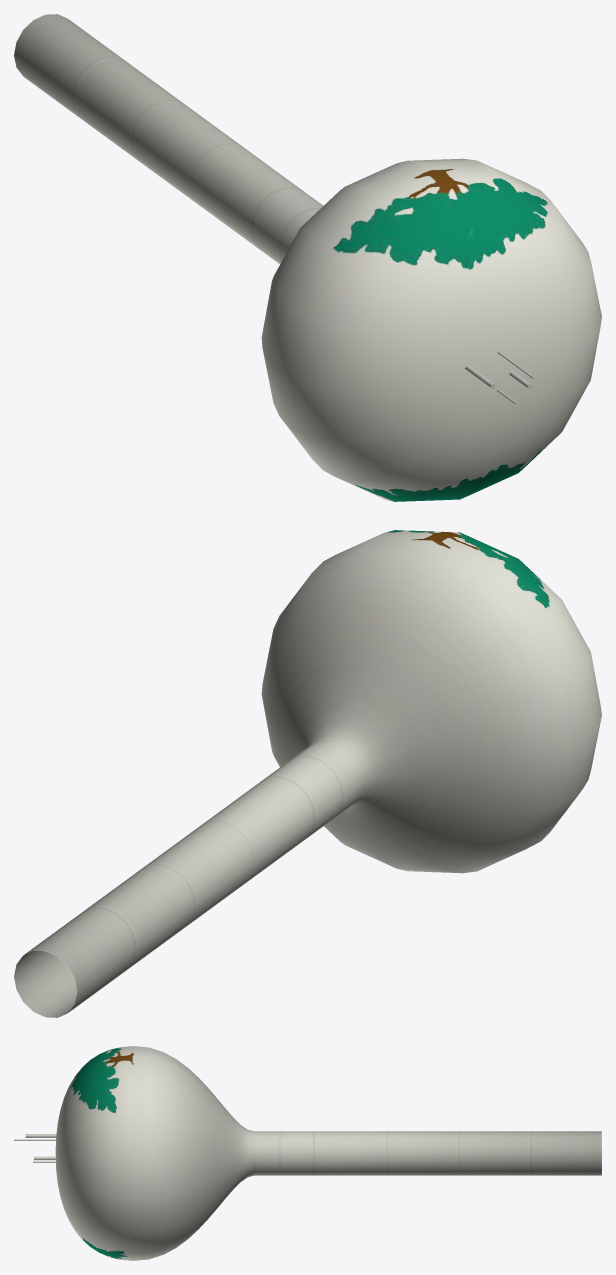
The model's file is Water_Tower.obj.
3 renders of one model, top to bottom at view 1: azimuth 30°, elevation 25°; view 2: azimuth 150°, elevation 25°; view 3: azimuth 270°, elevation 25°, orthographic. The views are drawn at different scales.
Visible parts, largest first — view 1: Water_Tower; view 2: Water_Tower; view 3: Water_Tower.
Boxes of the visible parts, box(x1,y1,x2,y2) form: Water_Tower: box(14, 14, 601, 501); Water_Tower: box(14, 530, 601, 1017); Water_Tower: box(14, 1046, 601, 1260).
Bounding box in the file's own units: 15.62 × 15.62 × 42.69.
1 material, 1 textured.
